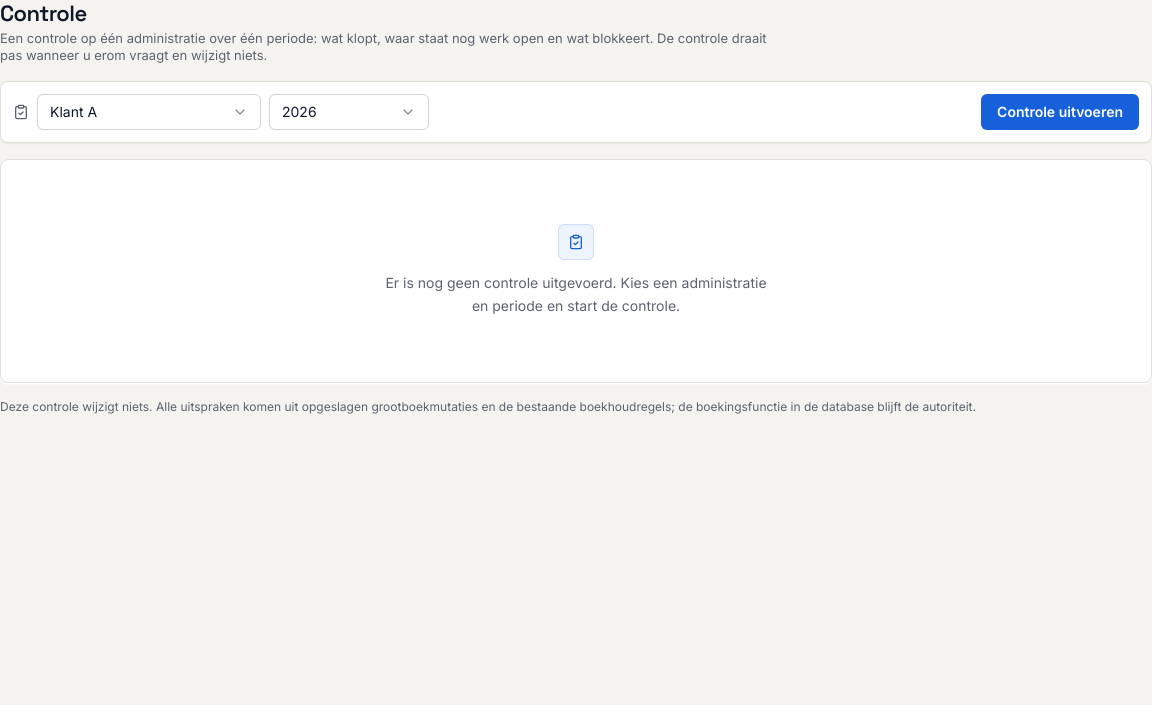
Test: tegenboekingen op het scherm › 22. een onleesbare bron is wél een technische storing
Click the button with test id "controle-uitvoeren" at point(1060, 112), box [981, 94, 1139, 130]
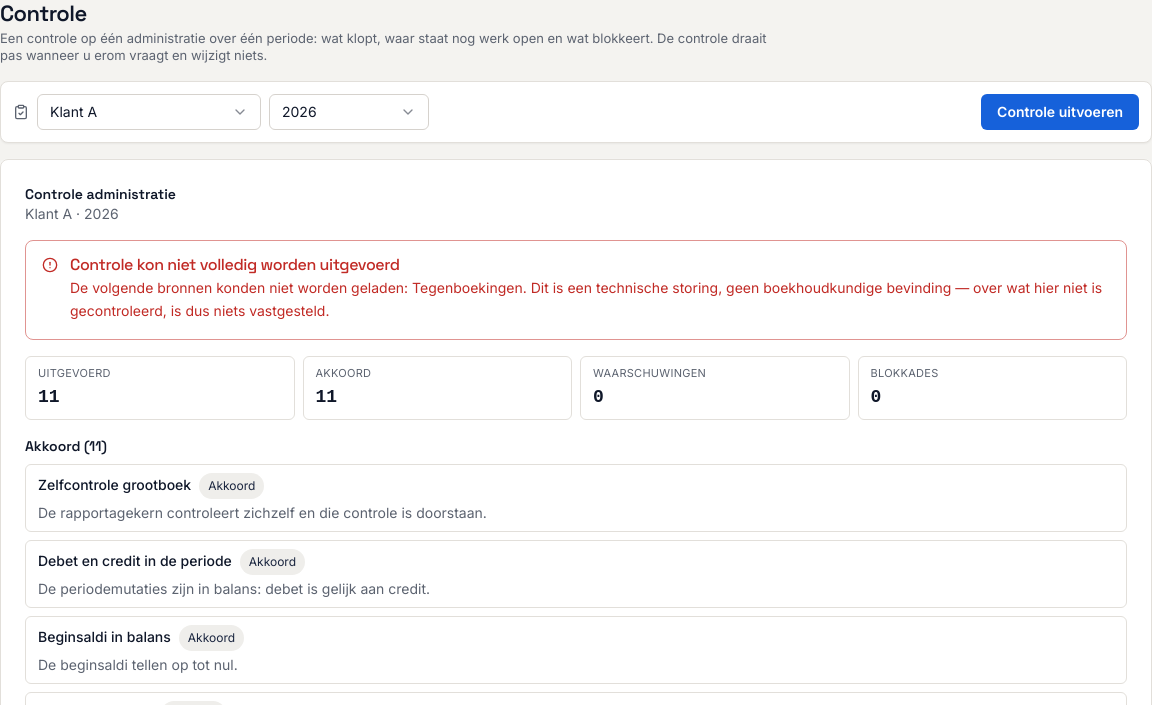
Now the element with test id "controle-onvolledig" shows "Tegenboekingen", box [412, 279, 523, 296]
